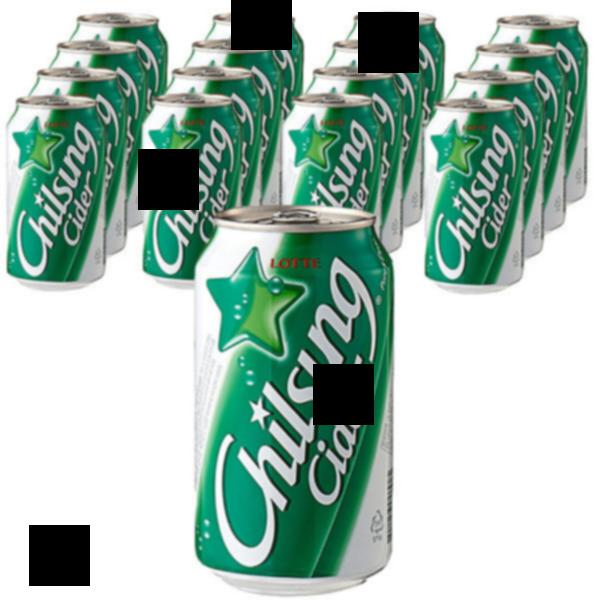chilsungcider: (166, 207, 401, 592)
